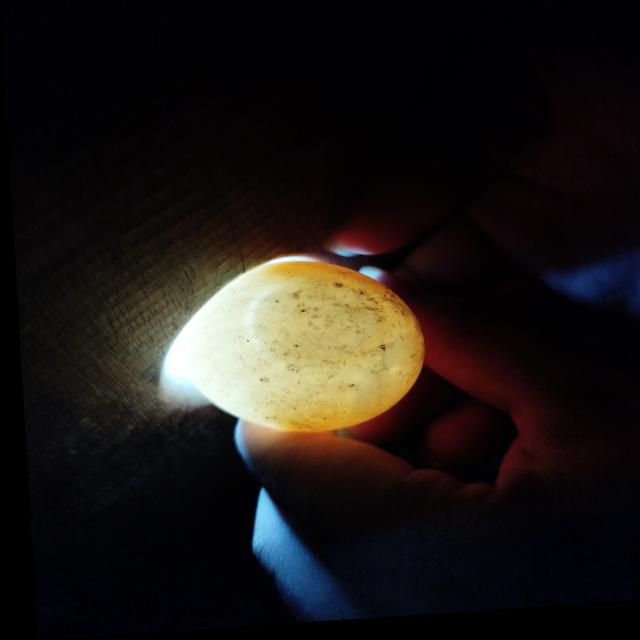Camara de Ar: (247, 286, 384, 369)
